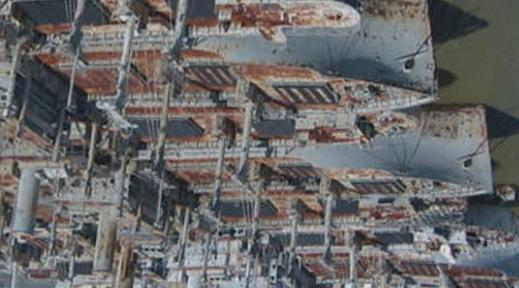rust: (242, 63, 312, 83), (169, 157, 211, 189), (233, 7, 289, 29), (74, 70, 115, 95), (170, 104, 242, 117), (306, 125, 351, 144), (265, 190, 287, 223), (85, 48, 125, 63), (370, 206, 406, 222), (182, 49, 223, 61), (126, 106, 159, 118), (39, 22, 69, 34), (135, 50, 162, 61)
